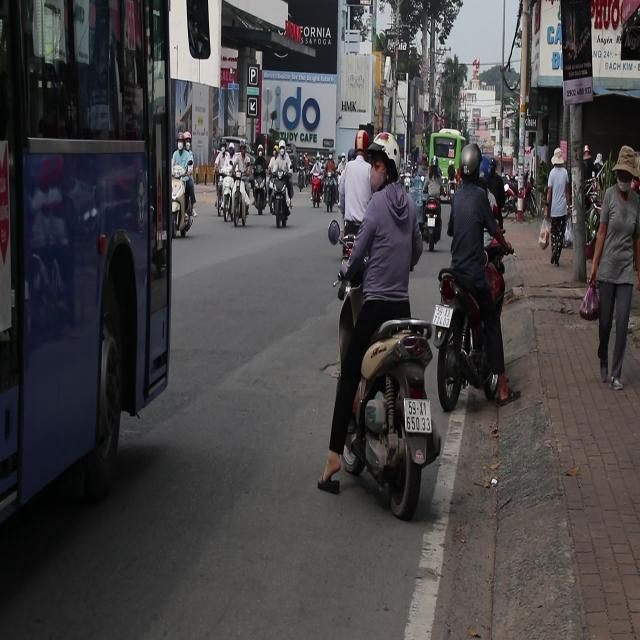bus: (0, 1, 175, 640), (430, 102, 470, 192)
motorbike: (332, 283, 446, 513), (426, 250, 551, 444), (329, 205, 376, 278), (170, 168, 192, 250), (419, 189, 444, 252), (276, 183, 294, 242), (232, 178, 251, 230), (322, 172, 338, 214), (223, 171, 234, 231), (213, 164, 222, 225), (255, 168, 265, 221), (310, 154, 318, 203)
